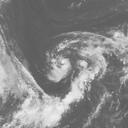cyclone: (48, 39, 97, 86)
